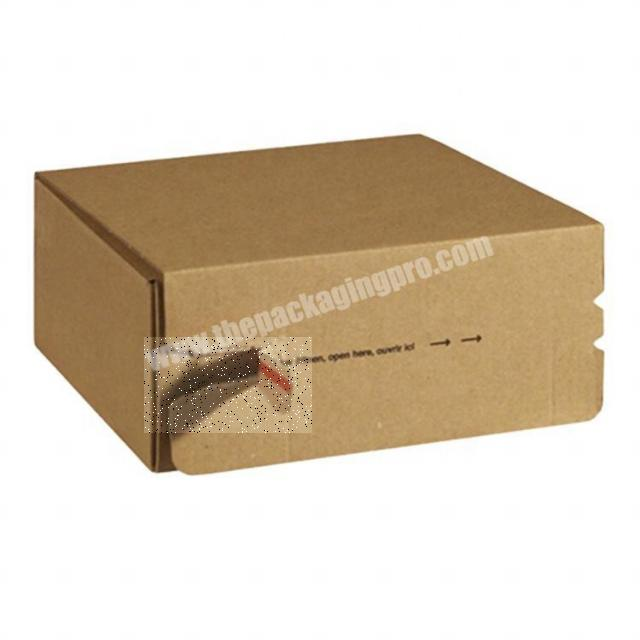tear: (144, 337, 312, 433)
